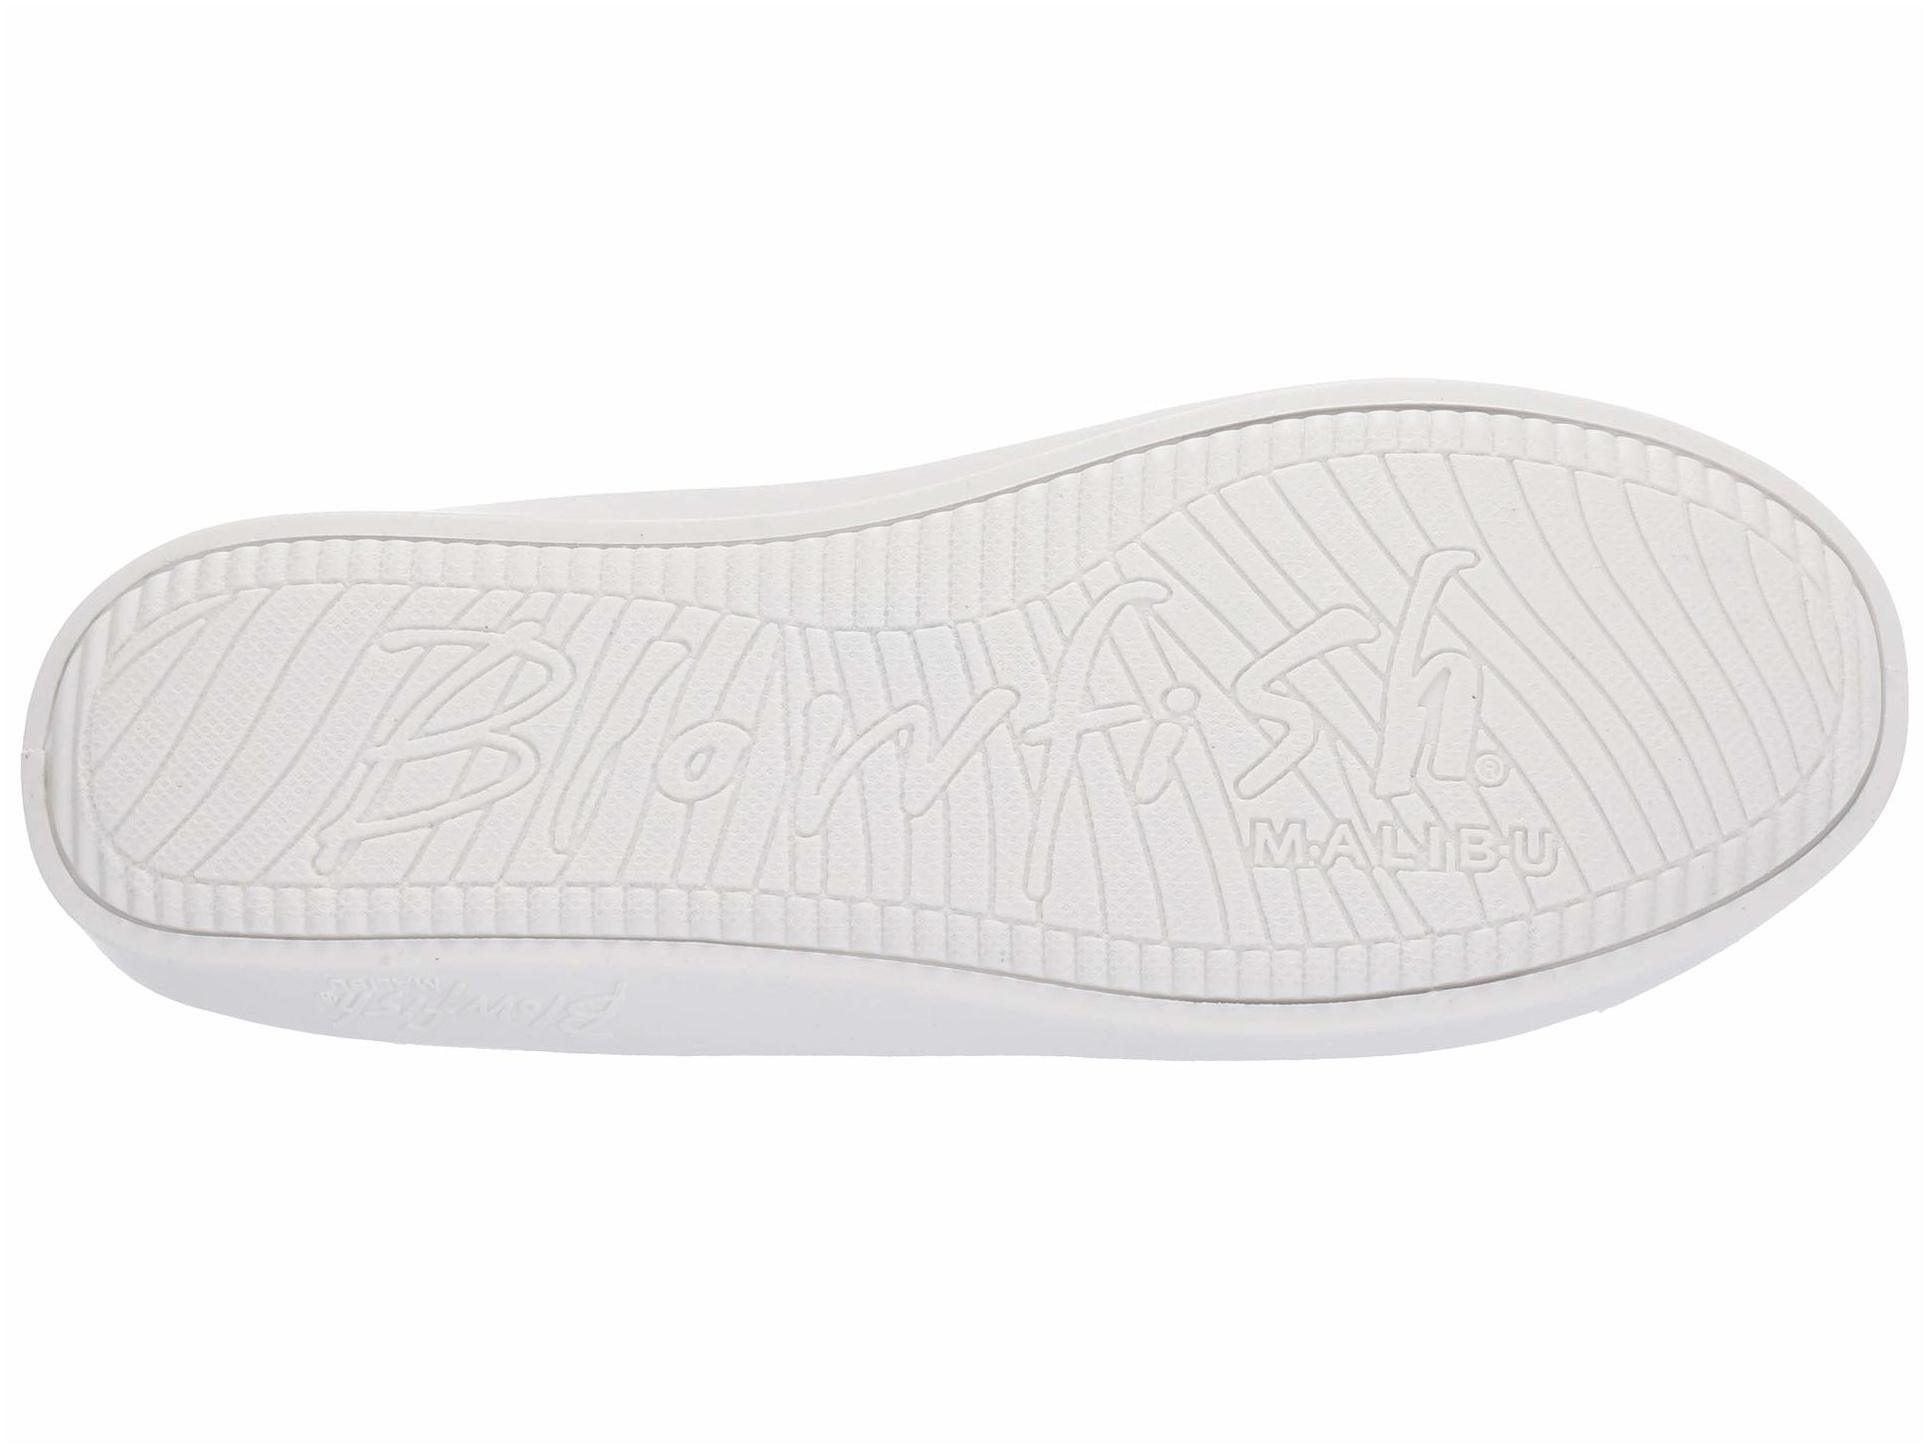circle: (772, 536, 1264, 982), (1229, 498, 1618, 920)
line: (772, 536, 1264, 982), (311, 586, 772, 955), (1229, 498, 1618, 920), (1653, 551, 1822, 754)
quad: (772, 536, 1264, 982), (311, 586, 772, 955)
text: (772, 536, 1264, 982), (311, 586, 772, 955), (1229, 498, 1618, 920)
